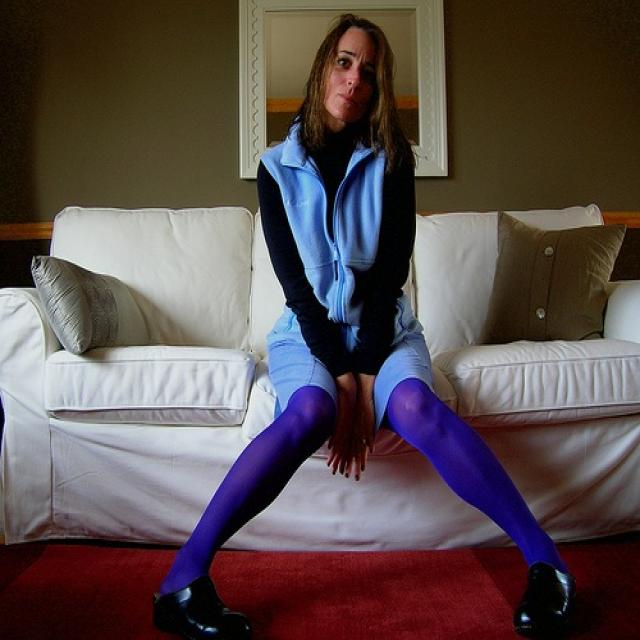sofa: (0, 203, 639, 552)
